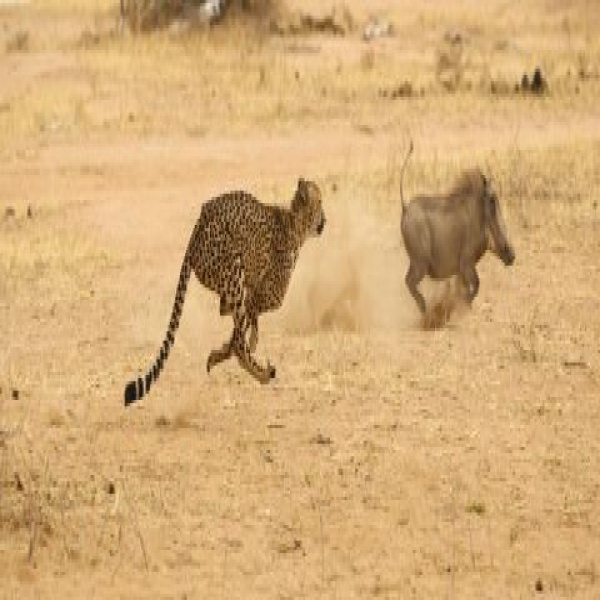Cheetah: (123, 173, 331, 408)
